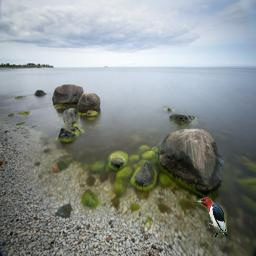Woodpecker: (195, 197, 227, 237)
